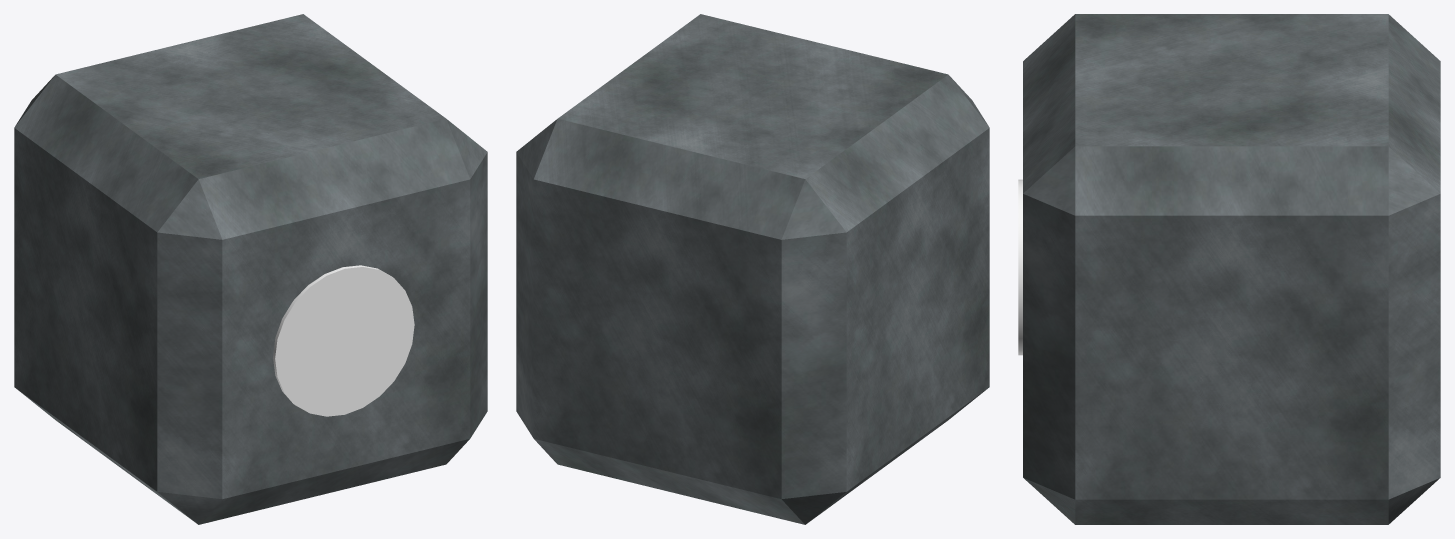
Rendered from Block_Red_Omni.fbx.
The picture shows the model from 3 angles, left to right: view 1: azimuth 30°, elevation 25°; view 2: azimuth 150°, elevation 25°; view 3: azimuth 270°, elevation 25°; orthographic projection. The views are drawn at different scales.
Visible parts, largest first — view 1: mergedBlocks.001; view 2: mergedBlocks.001; view 3: mergedBlocks.001.
Boxes of the visible parts, x1,y1,x2,y2 form: mergedBlocks.001: [14, 14, 487, 524]; mergedBlocks.001: [516, 14, 989, 524]; mergedBlocks.001: [1018, 14, 1440, 524].
Size of the model in its own units: 0.9 by 0.9 by 0.9102.
2 materials, 1 textured.
